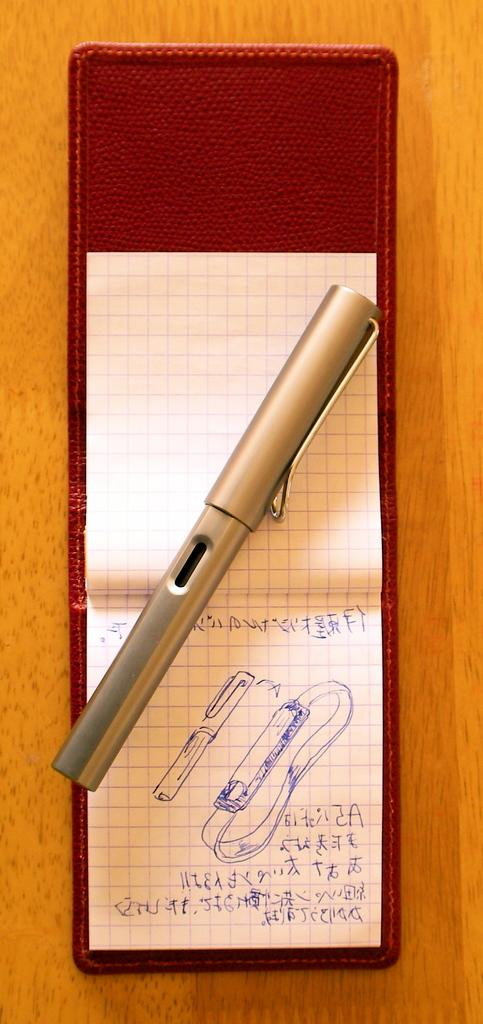pen: (52, 282, 386, 792)
